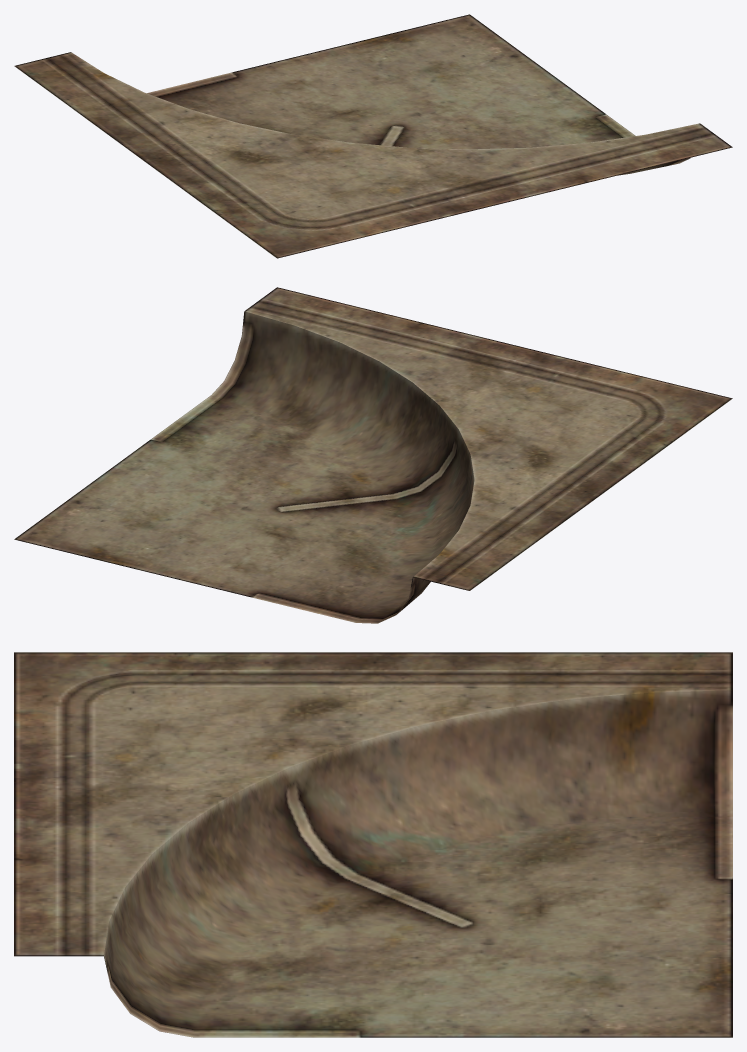
Rendered from pplant_ground_edge_concave_sunk.dae.
3 renders of one model, top to bottom at view 1: azimuth 30°, elevation 25°; view 2: azimuth 150°, elevation 25°; view 3: azimuth 270°, elevation 25°, orthographic. The views are drawn at different scales.
Visible parts, largest first — view 1: edge_concave_sunk; view 2: edge_concave_sunk; view 3: edge_concave_sunk.
Boxes of the visible parts, left/top/right/bottom form: edge_concave_sunk: left=14, top=14, right=732, bottom=258; edge_concave_sunk: left=14, top=287, right=732, bottom=623; edge_concave_sunk: left=14, top=652, right=732, bottom=1037.
Size of the model in its own units: 2 by 0.25 by 2.
